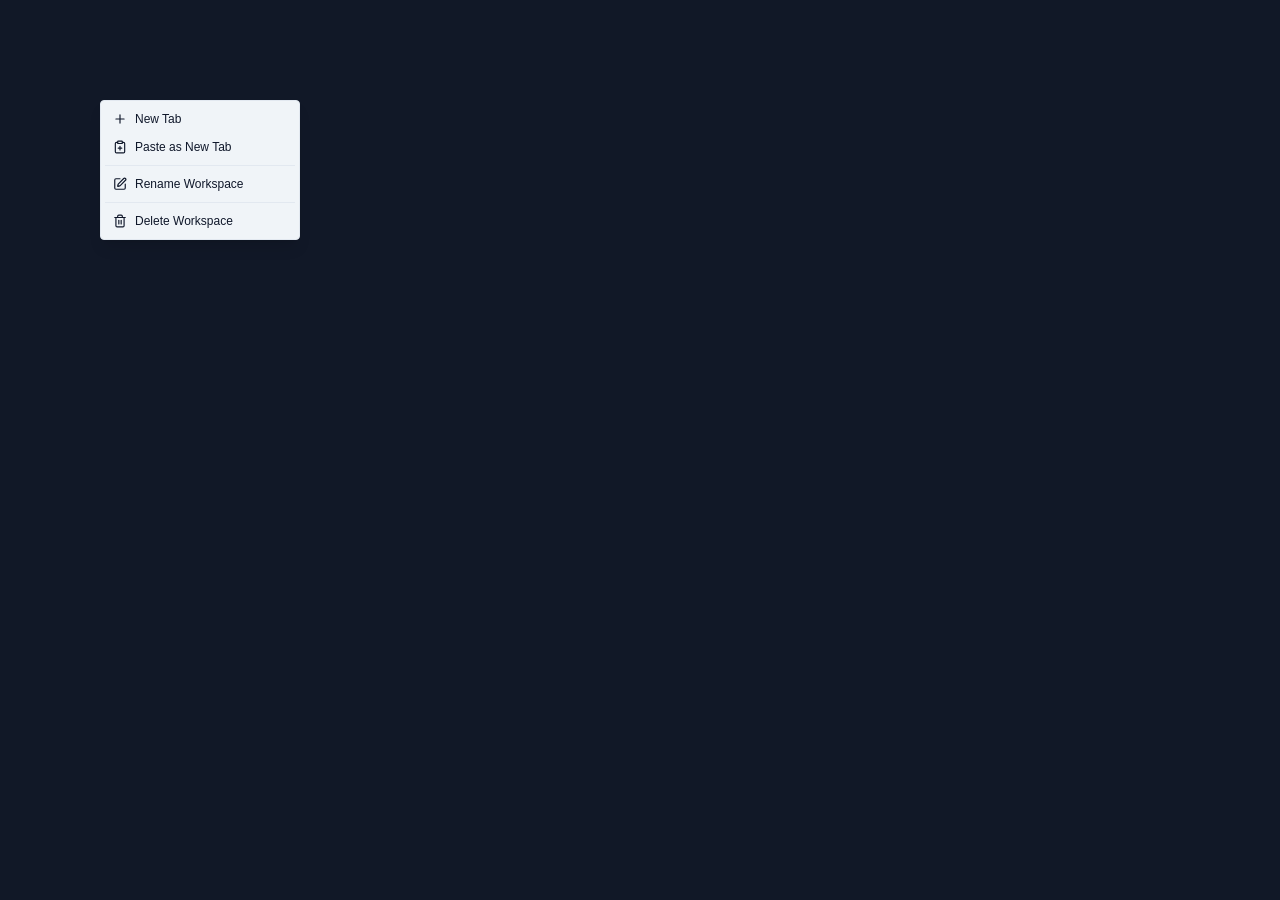
Test: WorkspaceContextMenu › Delete Workspace › should show confirmation dialog when Delete is clicked
Click the button "Delete Workspace".
click(200, 221)  # box [101, 207, 299, 235]
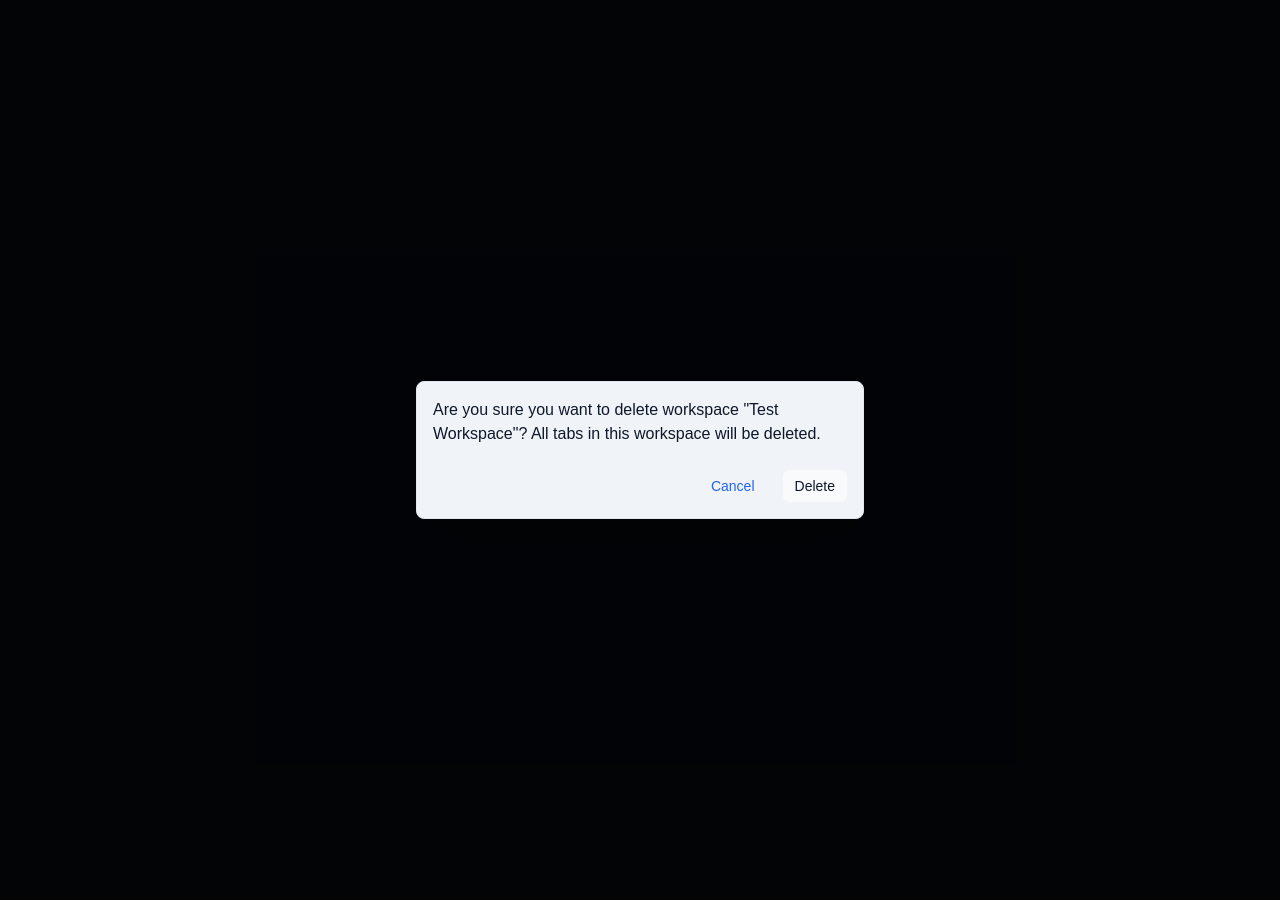
Check: the text "Are you sure you want to delete workspace" is shown, box [433, 401, 821, 442]
